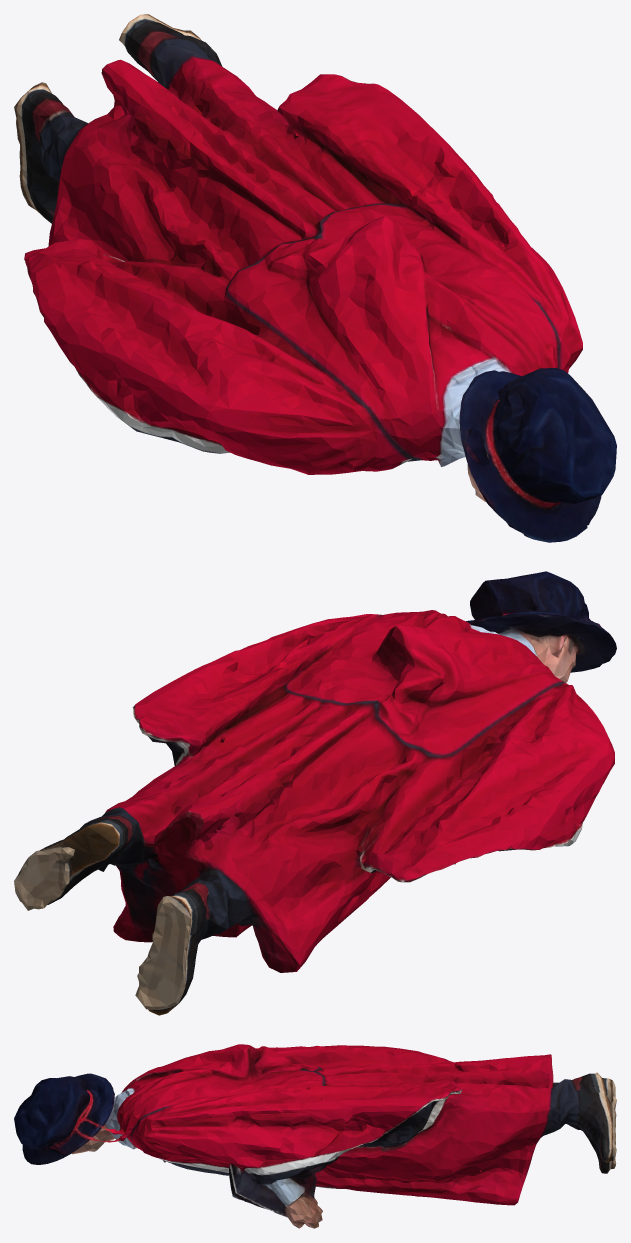
The model's file is StillGown_02_export_000000.obj.
3 views of the same model, one above another, from view 1: azimuth 30°, elevation 25°; view 2: azimuth 150°, elevation 25°; view 3: azimuth 270°, elevation 25° (orthographic). The views are drawn at different scales.
Bounding box in the file's own units: 0.8865 × 0.4645 × 1.8.
1 material, 1 textured.
